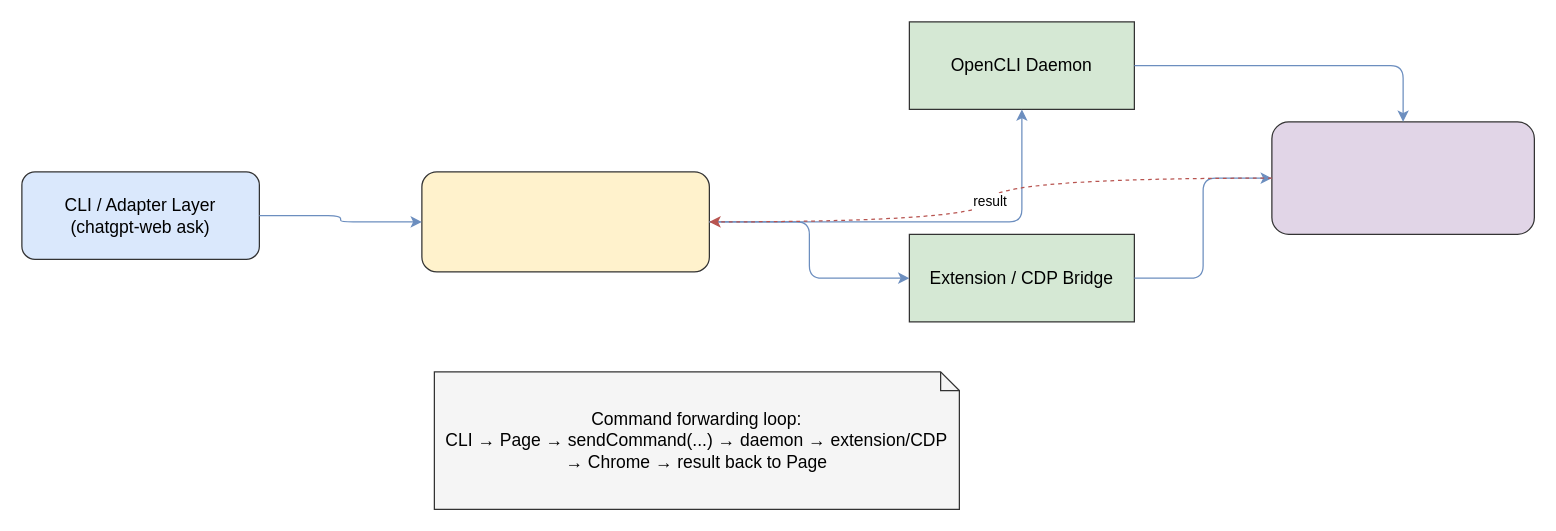
Some shapes in this 1556 by 531 pixel diagram are drawn without their labels. The centre of each missing label's shape, as x and y in pixels:
Google Chrome Active tab + session: the point at 1402,177
Page Abstraction Layer (goto / evaluate / insertText / screenshot): the point at 565,221
